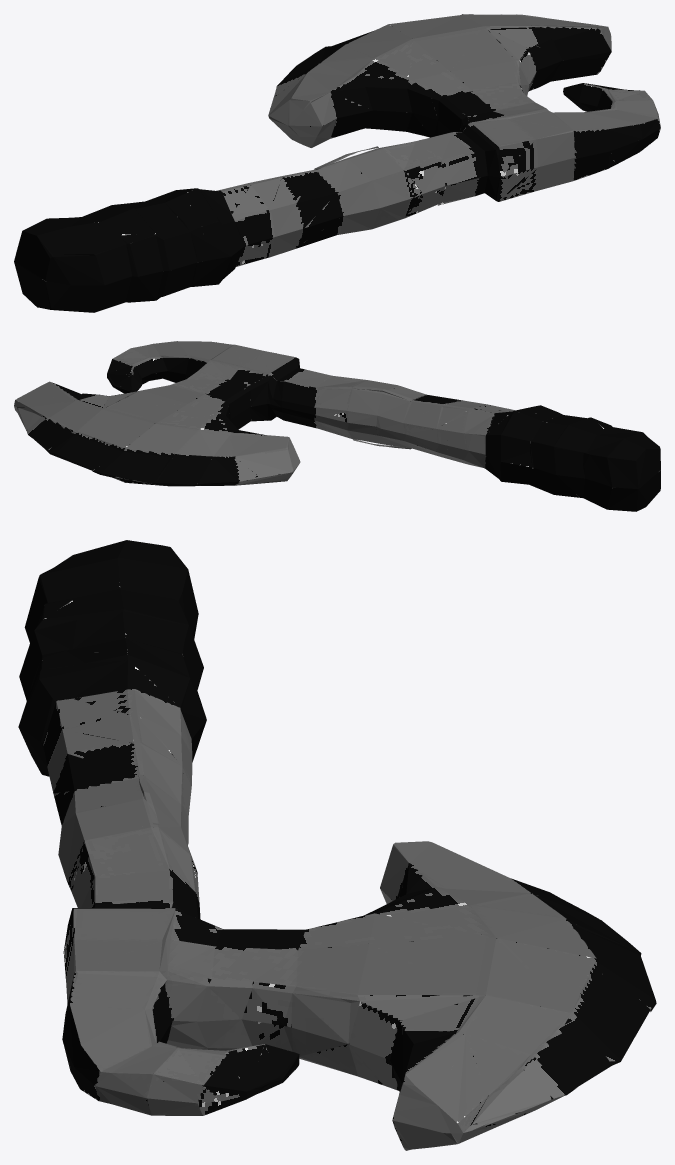
The picture shows the model from 3 angles, top to bottom: view 1: azimuth 30°, elevation 25°; view 2: azimuth 150°, elevation 25°; view 3: azimuth 270°, elevation 25°; orthographic projection. The views are drawn at different scales.
Visible parts, largest first — view 1: OBJ002; view 2: OBJ002; view 3: OBJ002.
Boxes of the visible parts, x1,y1,x2,y2 form: OBJ002: (14, 14, 660, 312); OBJ002: (14, 341, 660, 511); OBJ002: (18, 540, 656, 1150).
Bounding box in the file's own units: 0.3805 × 0.0468 × 0.1897.
Materials: 1 (1 with a texture image).
